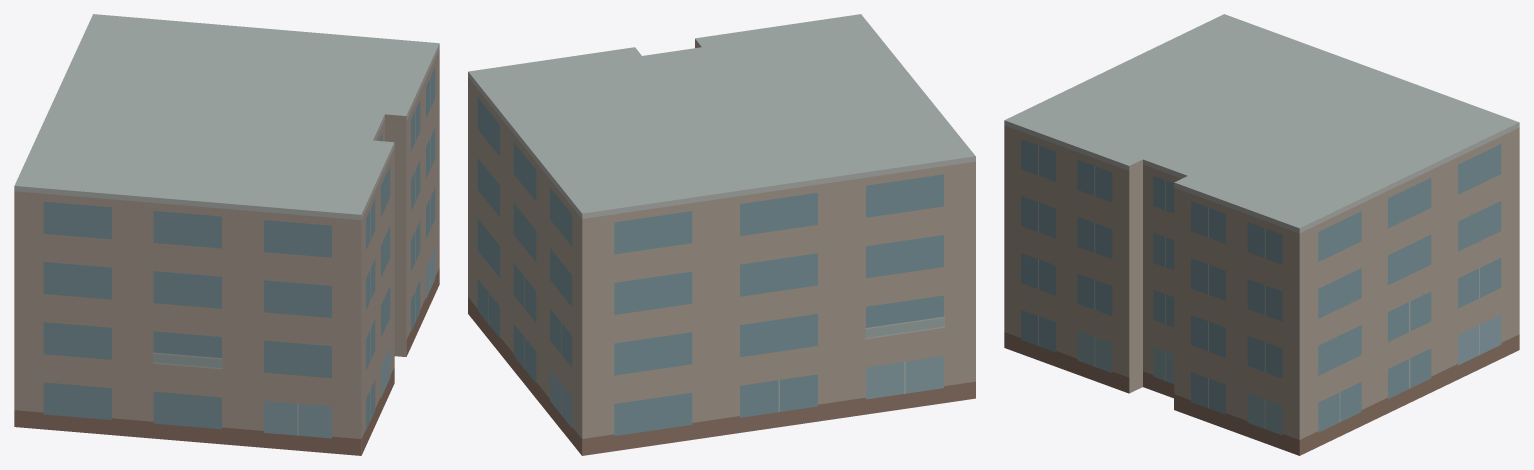
The model's file is survey-upis-32611421.glb.
3 renders of one model, left to right at view 1: azimuth 30°, elevation 25°; view 2: azimuth 150°, elevation 25°; view 3: azimuth 270°, elevation 25°, orthographic. The views are drawn at different scales.
Parts seen in each view (by area): view 1: survey-upis-32611421.tmp; view 2: survey-upis-32611421.tmp; view 3: survey-upis-32611421.tmp.
Boxes of the visible parts, bbox=[...] form: survey-upis-32611421.tmp: bbox=[14, 14, 439, 455]; survey-upis-32611421.tmp: bbox=[468, 14, 975, 455]; survey-upis-32611421.tmp: bbox=[1004, 14, 1519, 455].
Size of the model in its own units: 22.23 by 11 by 22.58.
